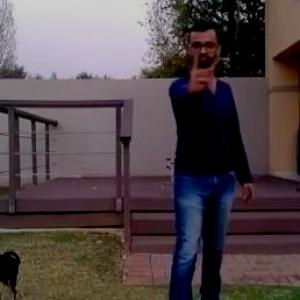takeoff-hand: (185, 44, 223, 99)
